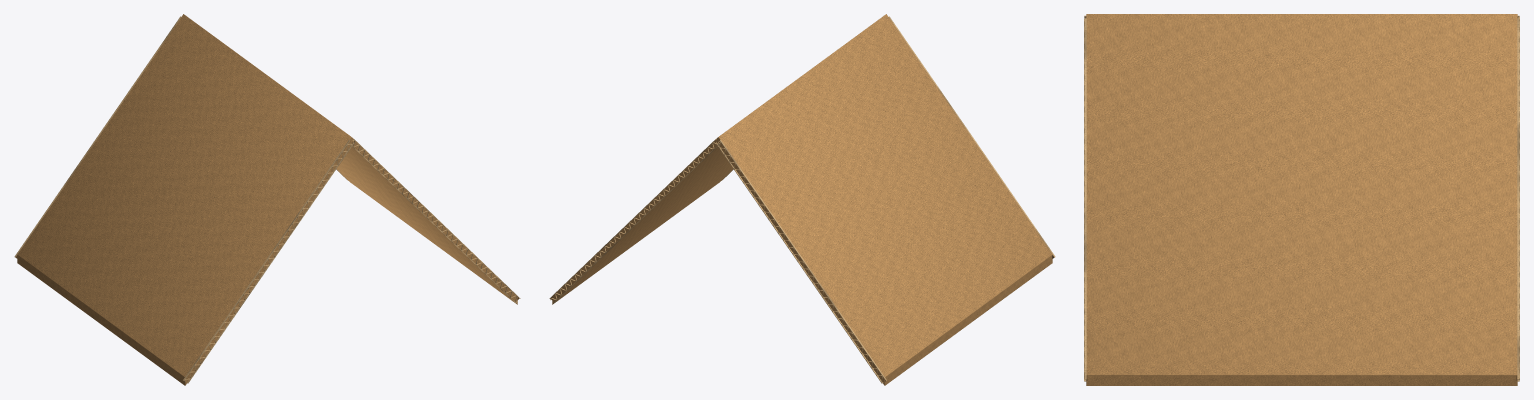
Rendered from 7-two-cardboard-roof-slopes-and-cut-edges.fbx.
3 renders of one model, left to right at view 1: azimuth 30°, elevation 25°; view 2: azimuth 150°, elevation 25°; view 3: azimuth 270°, elevation 25°, orthographic. The views are drawn at different scales.
Parts seen in each view (by area): view 1: two-cardboard-roof-slopes-and-cut-edges; view 2: two-cardboard-roof-slopes-and-cut-edges; view 3: two-cardboard-roof-slopes-and-cut-edges.
Boxes of the visible parts, x1,y1,x2,y2 form: two-cardboard-roof-slopes-and-cut-edges: [14, 14, 520, 385]; two-cardboard-roof-slopes-and-cut-edges: [549, 14, 1055, 385]; two-cardboard-roof-slopes-and-cut-edges: [1084, 14, 1519, 385].
Bounding box in the file's own units: 8104 × 4796 × 7072.
1 material, 1 textured.
